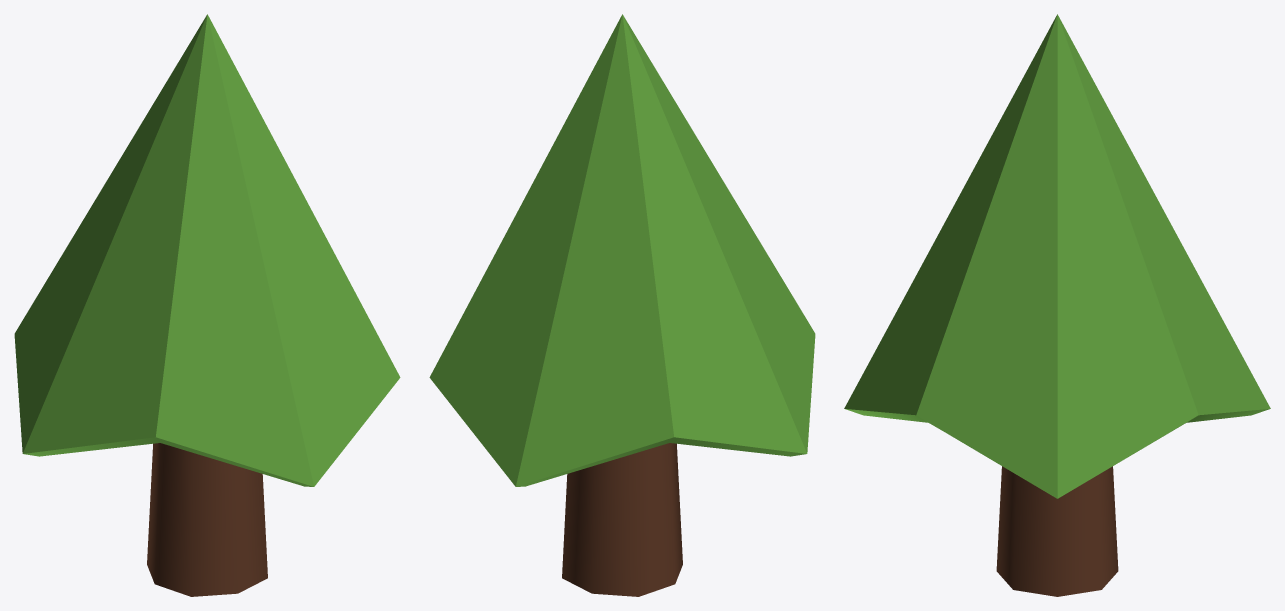
File: Pine.lv.001.fbx
3 renders of one model, left to right at view 1: azimuth 30°, elevation 25°; view 2: azimuth 150°, elevation 25°; view 3: azimuth 270°, elevation 25°, orthographic.
Visible parts, largest first — view 1: Plane.027; view 2: Plane.027; view 3: Plane.027.
Part boxes in pixels (x1,y1,x2,y2): Plane.027: [14, 14, 400, 596]; Plane.027: [429, 14, 815, 596]; Plane.027: [844, 14, 1270, 596].
Size of the model in its own units: 49.84 by 71.8 by 49.84.
